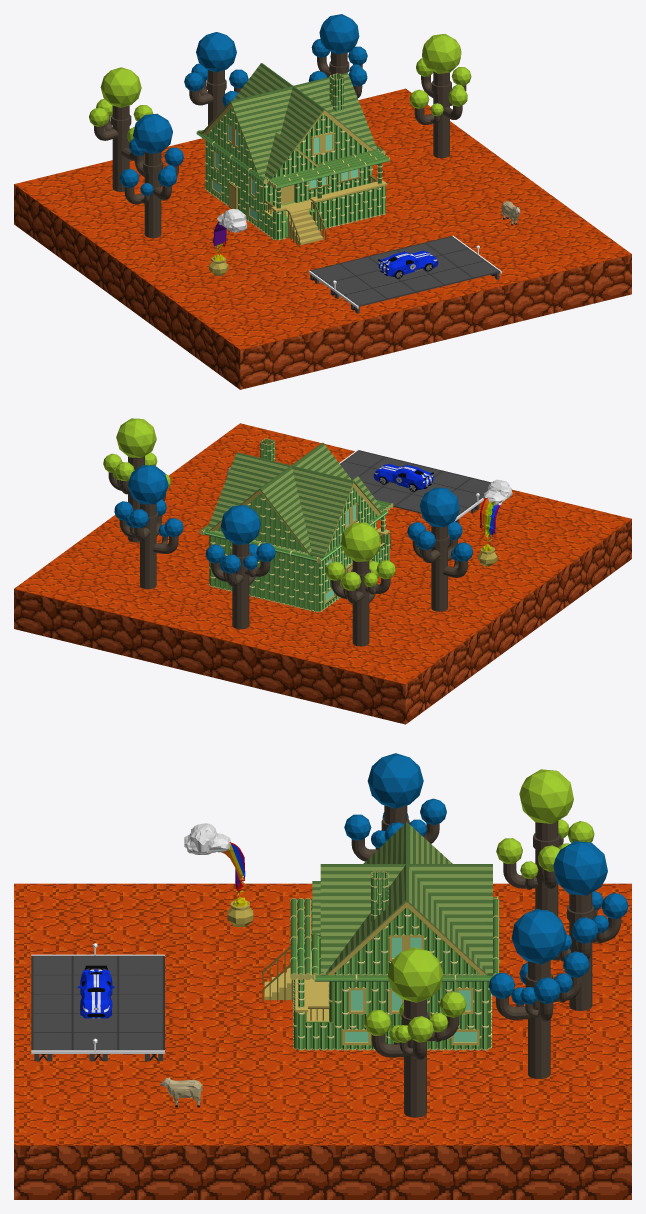
3 renders of one model, top to bottom at view 1: azimuth 30°, elevation 25°; view 2: azimuth 150°, elevation 25°; view 3: azimuth 270°, elevation 25°, orthographic. The views are drawn at different scales.
Parts seen in each view (by area): view 1: Cube.001, Cube.1327, OBJRANDOM_RAINBOW, VEHICLES_RACING_CAR; view 2: Cube.001, Cube.1327, OBJRANDOM_RAINBOW, VEHICLES_RACING_CAR; view 3: Cube.001, Cube.1327, OBJRANDOM_RAINBOW, VEHICLES_RACING_CAR, ANIMAL_OVEJA.
Boxes of the visible parts, <box> form: Cube.001: <box>14,14,631,389</box>; Cube.1327: <box>196,63,389,246</box>; OBJRANDOM_RAINBOW: <box>209,209,247,276</box>; VEHICLES_RACING_CAR: <box>378,250,438,278</box>; Cube.001: <box>14,418,631,724</box>; Cube.1327: <box>199,438,393,612</box>; OBJRANDOM_RAINBOW: <box>478,479,512,566</box>; VEHICLES_RACING_CAR: <box>373,464,433,491</box>; Cube.001: <box>14,753,631,1199</box>; Cube.1327: <box>262,822,499,1050</box>; OBJRANDOM_RAINBOW: <box>184,823,253,926</box>; VEHICLES_RACING_CAR: <box>77,965,114,1018</box>; ANIMAL_OVEJA: <box>160,1077,202,1107</box>.
Bounding box in the file's own units: 4000 × 1614 × 4000.
36 materials, 6 textured.
